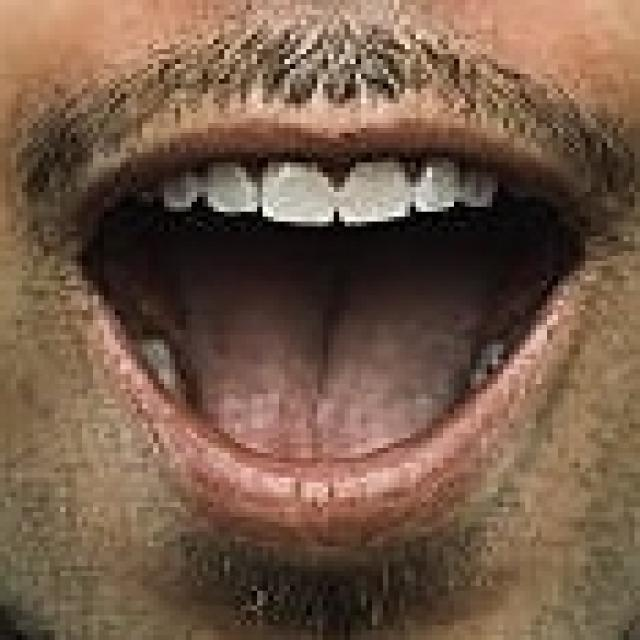open-mouth: (54, 109, 602, 552)
